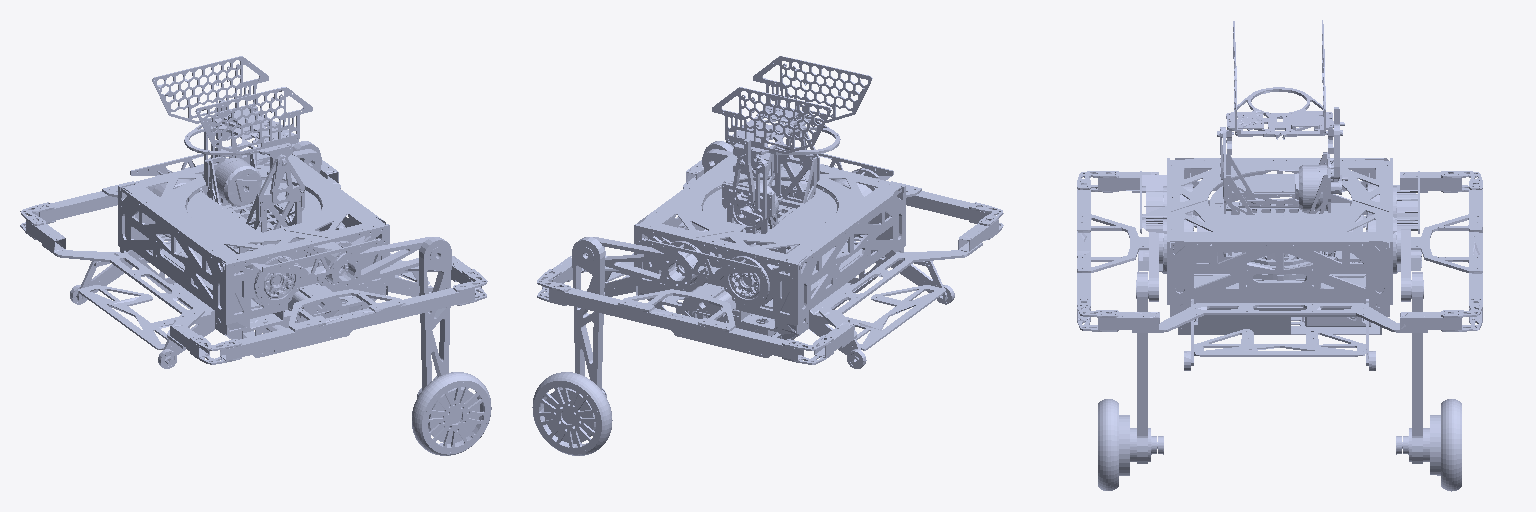
robot.urdf — wl:
<?xml version="1.0" encoding="utf-8"?>
<!-- This URDF was automatically created by SolidWorks to URDF Exporter! Originally created by [author] ([email redacted]) 
     Commit Version: 1.6.0-4-g7f85cfe  Build Version: 1.6.7995.38578
     For more information, please see http://wiki.ros.org/sw_urdf_exporter -->
<robot
  name="wl">
  <link
    name="base_link">
    <inertial>
      <origin
        xyz="0 0.0067 0.123056"
        rpy="0 0 0" />
      <mass
        value="8.8" />
      <inertia
        ixx="0.326092"
        ixy="3.6E-05"
        ixz="-0.00115"
        iyy="0.229526"
        iyz="0.006798"
        izz="0.220537" />
    </inertial>
    <visual>
      <origin
        xyz="0 0 0"
        rpy="0 0 0" />
      <geometry>
        <mesh
          filename="../meshes/base_link.dae" />
      </geometry>
      <material
        name="">
        <color
          rgba="0.79216 0.81961 0.93333 1" />
      </material>
    </visual>
    <collision>
      <origin
        xyz="0 0 0"
        rpy="0 0 0" />
      <geometry>
        <mesh
          filename="../meshes/base_link.dae" />
      </geometry>
    </collision>
  </link>
  <link
    name="lf0_Link">
    <inertial>
      <origin
        xyz="0.05976637 -0.00048182 0.01198236"
        rpy="0 0 0" />
      <mass
        value="0.16" />
      <inertia
        ixx="0.00006424"
        ixy="0.00000030"
        ixz="0.00012472"
        iyy="0.00116066"
        iyz="-0.00000101"
        izz="0.00117029" />
    </inertial>
    <visual>
      <origin
        xyz="0 0 0"
        rpy="0 0 0" />
      <geometry>
        <mesh
          filename="../meshes/lf0_Link.dae" />
      </geometry>
      <material
        name="">
        <color
          rgba="0.792156862745098 0.819607843137255 0.933333333333333 1" />
      </material>
    </visual>
    <collision>
      <origin
        xyz="0 0 0"
        rpy="0 0 0" />
      <geometry>
        <mesh
          filename="../meshes/lf0_Link.dae" />
      </geometry>
    </collision>
  </link>
  <joint
    name="lf0_Joint"
    type="revolute">
    <origin
      xyz="0.054 0.1705 0.131"
      rpy="-1.5708 0 0" />
    <parent
      link="base_link" />
    <child
      link="lf0_Link" />
    <axis
      xyz="0 0 1" />
    <limit
      lower="-0.3363"
      upper="1.3479"
      effort="30"
      velocity="1000" />
  </joint>
  <link
    name="lf1_Link">
    <inertial>
      <origin
        xyz="-0.00032544 0.15899848 0.00798168"
        rpy="0 0 0" />
      <mass
        value="0.36" />
      <inertia
        ixx="0.01248770"
        ixy="-0.00000383"
        ixz="-0.00000106"
        iyy="0.00011869"
        iyz="0.00042404"
        izz="0.01251325" />
    </inertial>
    <visual>
      <origin
        xyz="0 0 0"
        rpy="0 0 0" />
      <geometry>
        <mesh
          filename="../meshes/lf1_Link.dae" />
      </geometry>
      <material
        name="">
        <color
          rgba="0.792156862745098 0.819607843137255 0.933333333333333 1" />
      </material>
    </visual>
    <collision>
      <origin
        xyz="0 0 0"
        rpy="0 0 0" />
      <geometry>
        <mesh
          filename="../meshes/lf1_Link.dae" />
      </geometry>
    </collision>
  </link>
  <joint
    name="lf1_Joint"
    type="revolute">
    <origin
      xyz="0.15 -0.00010199 0.0205"
      rpy="0 0 0" />
    <parent
      link="lf0_Link" />
    <child
      link="lf1_Link" />
    <axis
      xyz="0 0 1" />
    <limit
      effort="30"
      velocity="1000" />
  </joint>
  <link
    name="l_Wheel_Link">
    <inertial>
      <origin
        xyz="-0.00004507 -0.00038447 0.02376028"
        rpy="0 0 0" />
      <mass
        value="1.22" />
      <inertia
        ixx="0.00174370"
        ixy="-0.00000195"
        ixz="-0.00000028"
        iyy="0.00176013"
        iyz="-0.00000241"
        izz="0.00173973" />
    </inertial>
    <visual>
      <origin
        xyz="0 0 0"
        rpy="0 0 0" />
      <geometry>
        <mesh
          filename="../meshes/l_Wheel_Link.dae" />
      </geometry>
      <material
        name="">
        <color
          rgba="0.792156862745098 0.819607843137255 0.933333333333333 1" />
      </material>
    </visual>
    <collision>
      <origin
        xyz="0 0 0"
        rpy="0 0 0" />
      <geometry>
        <mesh
          filename="../meshes/l_Wheel_Link.dae" />
      </geometry>
    </collision>
  </link>
  <joint
    name="l_Wheel_Joint"
    type="revolute">
    <origin
      xyz="1.857E-05 0.25 0.0275"
      rpy="0 0 0" />
    <parent
      link="lf1_Link" />
    <child
      link="l_Wheel_Link" />
    <axis
      xyz="0 0 1" />
    <limit
      effort="5"
      velocity="1000" />
  </joint>
  <link
    name="rf0_Link">
    <inertial>
      <origin
        xyz="0.05976637 -0.00048182 0.01198236"
        rpy="0 0 0" />
      <mass
        value="0.16" />
      <inertia
        ixx="0.00006424"
        ixy="0.00000174"
        ixz="0.00012472"
        iyy="0.00116066"
        iyz="-0.00000084"
        izz="0.00117029" />
    </inertial>
    <visual>
      <origin
        xyz="0 0 0"
        rpy="0 0 0" />
      <geometry>
        <mesh
          filename="../meshes/rf0_Link.dae" />
      </geometry>
      <material
        name="">
        <color
          rgba="0.792156862745098 0.819607843137255 0.933333333333333 1" />
      </material>
    </visual>
    <collision>
      <origin
        xyz="0 0 0"
        rpy="0 0 0" />
      <geometry>
        <mesh
          filename="../meshes/rf0_Link.dae" />
      </geometry>
    </collision>
  </link>
  <joint
    name="rf0_Joint"
    type="revolute">
    <origin
      xyz="0.054 -0.1705 0.131"
      rpy="1.5708 0 0" />
    <parent
      link="base_link" />
    <child
      link="rf0_Link" />
    <axis
      xyz="0 0 1" />
    <limit
      lower="-1.3479"
      upper="0.3363"
      effort="30"
      velocity="1000" />
  </joint>
  <link
    name="rf1_Link">
    <inertial>
      <origin
        xyz="0.00032544 -0.15899848 0.00798168"
        rpy="0 0 0" />
      <mass
        value="0.36" />
      <inertia
        ixx="0.01248770"
        ixy="-0.00000553"
        ixz="0.00000112"
        iyy="0.00011869"
        iyz="-0.00042404"
        izz="0.01251325" />
    </inertial>
    <visual>
      <origin
        xyz="0 0 0"
        rpy="0 0 0" />
      <geometry>
        <mesh
          filename="../meshes/rf1_Link.dae" />
      </geometry>
      <material
        name="">
        <color
          rgba="0.792156862745098 0.819607843137255 0.933333333333333 1" />
      </material>
    </visual>
    <collision>
      <origin
        xyz="0 0 0"
        rpy="0 0 0" />
      <geometry>
        <mesh
          filename="../meshes/rf1_Link.dae" />
      </geometry>
    </collision>
  </link>
  <joint
    name="rf1_Joint"
    type="revolute">
    <origin
      xyz="0.15 9.5536E-05 0.0205"
      rpy="0 0 0" />
    <parent
      link="rf0_Link" />
    <child
      link="rf1_Link" />
    <axis
      xyz="0 0 1" />
    <limit
      effort="30"
      velocity="1000" />
  </joint>
  <link
    name="r_Wheel_Link">
    <inertial>
      <origin
        xyz="0.00038403 0.00004865 0.02376028"
        rpy="0 0 0" />
      <mass
        value="1.22" />
      <inertia
        ixx="0.00176009"
        ixy="-0.00000211"
        ixz="0.00000241"
        iyy="0.00174374"
        iyz="0.00000031"
        izz="0.00173973" />
    </inertial>
    <visual>
      <origin
        xyz="0 0 0"
        rpy="0 0 0" />
      <geometry>
        <mesh
          filename="../meshes/r_Wheel_Link.dae" />
      </geometry>
      <material
        name="">
        <color
          rgba="0.792156862745098 0.819607843137255 0.933333333333333 1" />
      </material>
    </visual>
    <collision>
      <origin
        xyz="0 0 0"
        rpy="0 0 0" />
      <geometry>
        <mesh
          filename="../meshes/r_Wheel_Link.dae" />
      </geometry>
    </collision>
  </link>
  <joint
    name="r_Wheel_Joint"
    type="revolute">
    <origin
      xyz="1.5909E-05 -0.25 0.0275"
      rpy="0 0 0" />
    <parent
      link="rf1_Link" />
    <child
      link="r_Wheel_Link" />
    <axis
      xyz="0 0 1" />
    <limit
      effort="5"
      velocity="1000" />
  </joint>
</robot>

--- Render facts (derived) ---
3 views of the same robot in one strip: view 1: azimuth 30°, elevation 25°; view 2: azimuth 150°, elevation 25°; view 3: azimuth 270°, elevation 25° (orthographic).
Robot: wl — 7 links, 6 joints (6 revolute); root link base_link; default pose: every joint at zero.
Links seen in each view (by area): view 1: base_link, r_Wheel_Link, rf1_Link, rf0_Link; view 2: base_link, l_Wheel_Link, lf1_Link, lf0_Link; view 3: base_link, r_Wheel_Link, l_Wheel_Link, lf1_Link, rf1_Link, lf0_Link, rf0_Link.
Link boxes in pixels (x1,y1,x2,y2): base_link: (20,56,487,368); r_Wheel_Link: (412,372,491,455); rf1_Link: (417,237,451,397); rf0_Link: (326,237,431,287); base_link: (537,56,1003,368); l_Wheel_Link: (532,372,612,455); lf1_Link: (572,237,606,397); lf0_Link: (593,237,697,287); base_link: (1077,20,1482,370); r_Wheel_Link: (1098,399,1129,490); l_Wheel_Link: (1430,399,1461,491); lf1_Link: (1396,272,1429,463); rf1_Link: (1130,272,1163,463); lf0_Link: (1397,229,1410,301); rf0_Link: (1149,232,1162,301).
Size in the robot's own frame: 0.5215 by 0.59 by 0.588 metres.
Meshes: 7 distinct files referenced, 7 mesh visuals loaded (7 Collada DAE).